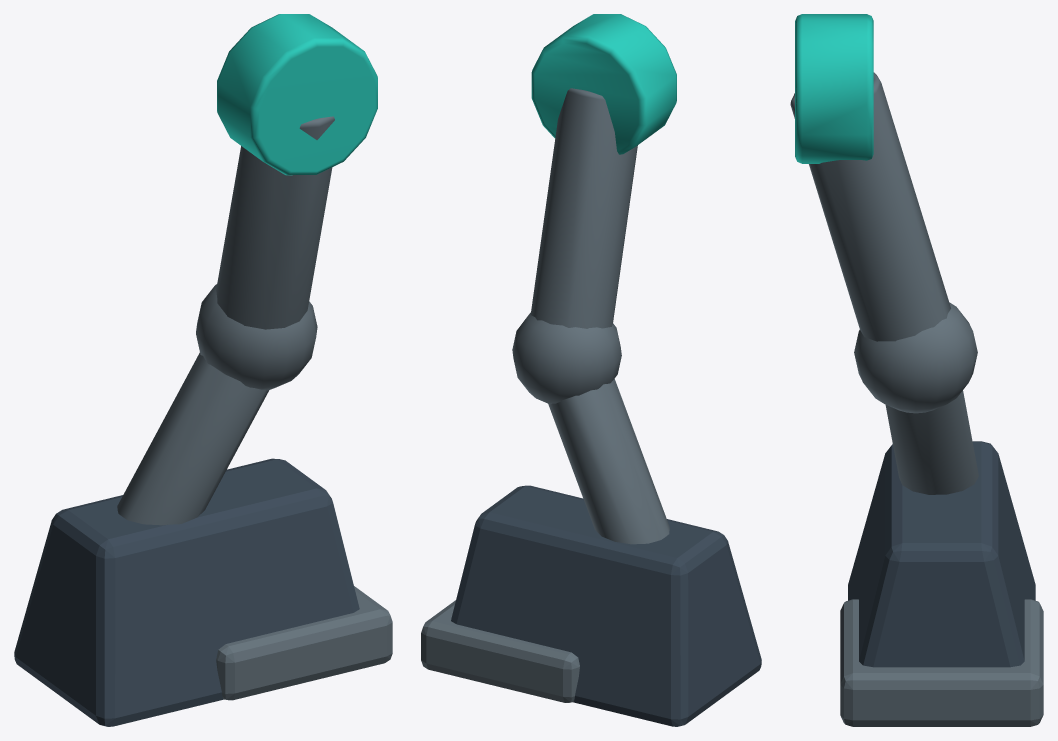
Rendered from SM_Drudge_LegRL.fbx.
3 renders of one model, left to right at view 1: azimuth 30°, elevation 25°; view 2: azimuth 150°, elevation 25°; view 3: azimuth 270°, elevation 25°, orthographic. The views are drawn at different scales.
Visible parts, largest first — view 1: SM_Drudge_LegRL; view 2: SM_Drudge_LegRL; view 3: SM_Drudge_LegRL.
Boxes of the visible parts, x1,y1,x2,y2 form: SM_Drudge_LegRL: (14,14,392,726); SM_Drudge_LegRL: (421,14,761,726); SM_Drudge_LegRL: (790,14,1043,726).
Size of the model in its own units: 7.79 by 5.92 by 17.07.
